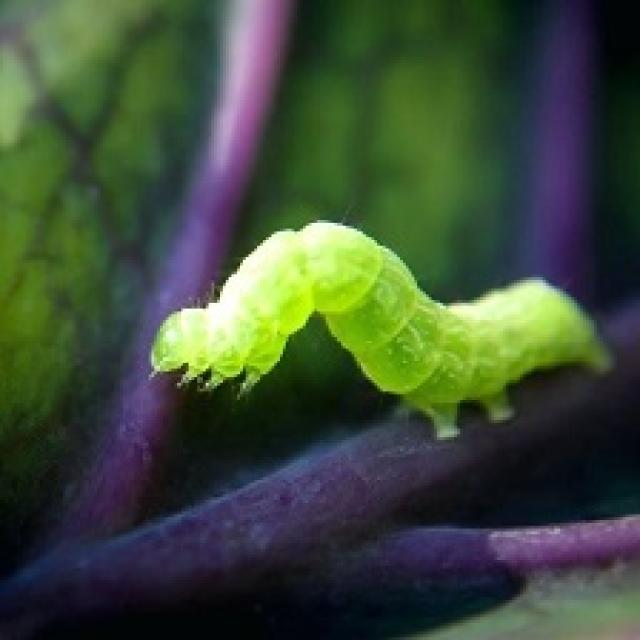Cabbage-worm: (138, 222, 603, 447)
